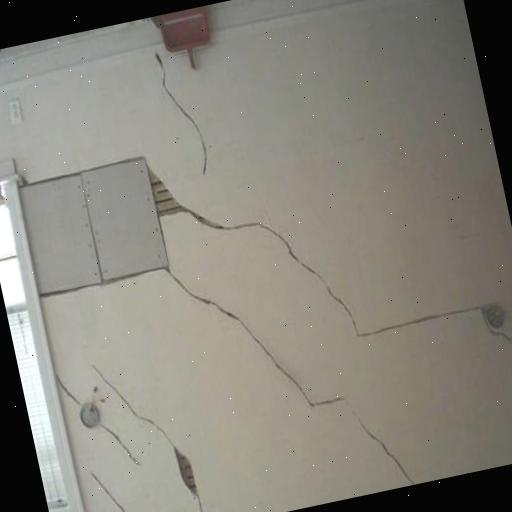spalling: (155, 262, 420, 479), (186, 196, 474, 347), (92, 362, 207, 512), (57, 373, 142, 471), (152, 54, 211, 174), (90, 466, 130, 512)
